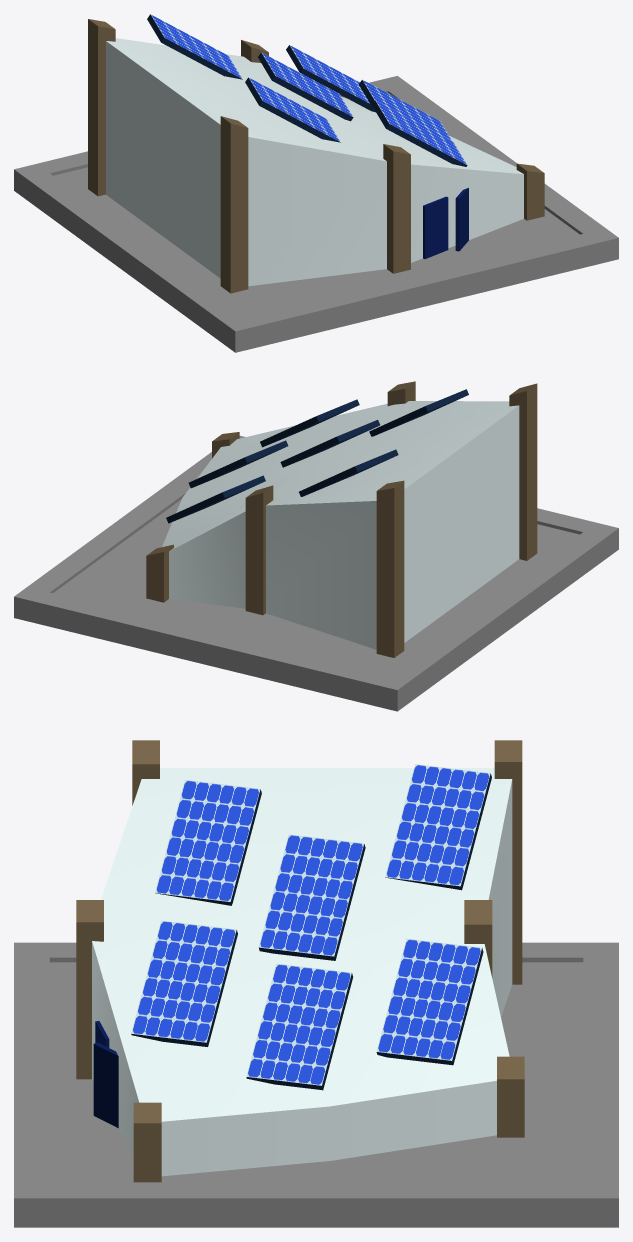
File: HeadQuarters_Model.fbx
3 renders of one model, top to bottom at view 1: azimuth 30°, elevation 25°; view 2: azimuth 150°, elevation 25°; view 3: azimuth 270°, elevation 25°, orthographic. The views are drawn at different scales.
Visible parts, largest first — view 1: pCube8, pCube7, pCube9, pCube10, pCube11, pCube16, pCube17, pCube18, pCube15, pCube19, pCube21, pCube20 (+2 smaller); view 2: pCube8, pCube7, pCube10, pCube9, pCube14, pCube12, pCube16, pCube19, pCube20, pCube17, pCube15, pCube18 (+1 smaller); view 3: pCube8, pCube7, pCube16, pCube19, pCube20, pCube17, pCube18, pCube15, pCube10, pCube11, pCube13, pCube12 (+3 smaller).
Boxes of the visible parts, bbox=[...] form: pCube8: bbox=[106, 38, 523, 286]; pCube7: bbox=[14, 76, 618, 352]; pCube9: bbox=[220, 116, 248, 293]; pCube10: bbox=[88, 19, 115, 196]; pCube11: bbox=[383, 144, 410, 273]; pCube16: bbox=[258, 52, 353, 121]; pCube17: bbox=[372, 100, 467, 166]; pCube18: bbox=[147, 14, 242, 79]; pCube15: bbox=[245, 77, 340, 142]; pCube19: bbox=[286, 45, 375, 112]; pCube21: bbox=[423, 196, 448, 258]; pCube20: bbox=[359, 79, 451, 140]; pCube8: bbox=[162, 401, 519, 649]; pCube7: bbox=[14, 435, 618, 711]; pCube10: bbox=[376, 480, 404, 657]; pCube9: bbox=[509, 383, 537, 560]; pCube14: bbox=[245, 485, 273, 615]; pCube12: bbox=[146, 544, 173, 602]; pCube16: bbox=[280, 420, 379, 467]; pCube19: bbox=[166, 475, 265, 523]; pCube20: bbox=[188, 440, 288, 488]; pCube17: bbox=[260, 399, 359, 447]; pCube15: bbox=[369, 389, 468, 436]; pCube18: bbox=[299, 449, 398, 496]; pCube8: bbox=[92, 768, 512, 1176]; pCube7: bbox=[14, 942, 618, 1227]; pCube16: bbox=[258, 834, 365, 960]; pCube19: bbox=[376, 938, 483, 1065]; pCube20: bbox=[246, 963, 352, 1090]; pCube17: bbox=[131, 920, 237, 1046]; pCube18: bbox=[385, 764, 491, 890]; pCube15: bbox=[155, 780, 261, 905]; pCube10: bbox=[494, 740, 522, 984]; pCube11: bbox=[76, 900, 103, 1079]; pCube13: bbox=[133, 1102, 161, 1182]; pCube12: bbox=[497, 1056, 524, 1137].
Size of the model in its own units: 22.06 by 10.4 by 22.06.
